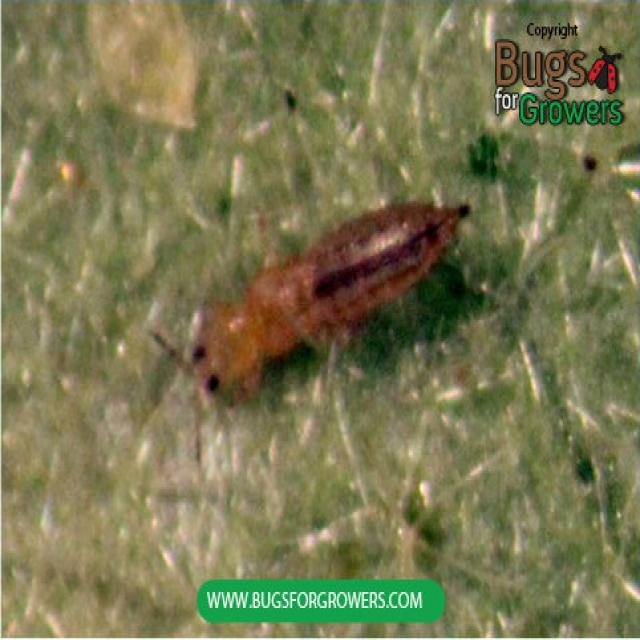Thrip-Larva-: (168, 181, 480, 408)
